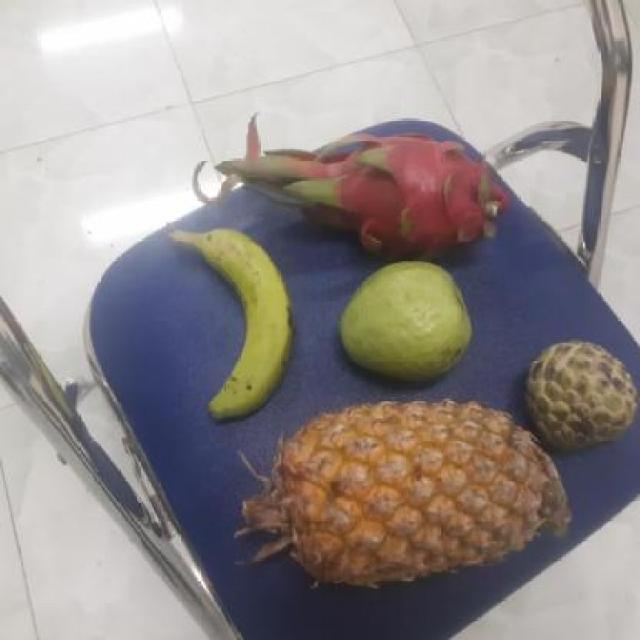banana: (176, 224, 295, 413)
dragon fruit: (318, 124, 500, 259)
guava: (332, 262, 472, 381)
pineapple: (269, 402, 556, 586)
sugar apple: (517, 341, 637, 452)
